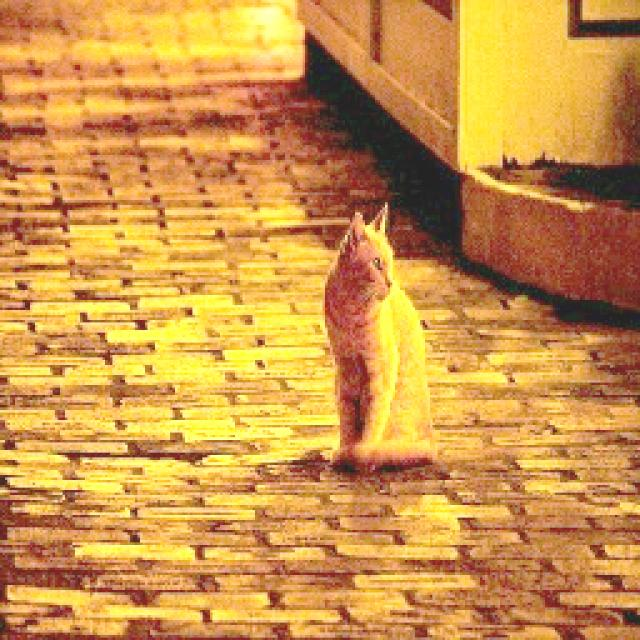cat: (322, 204, 451, 472)
